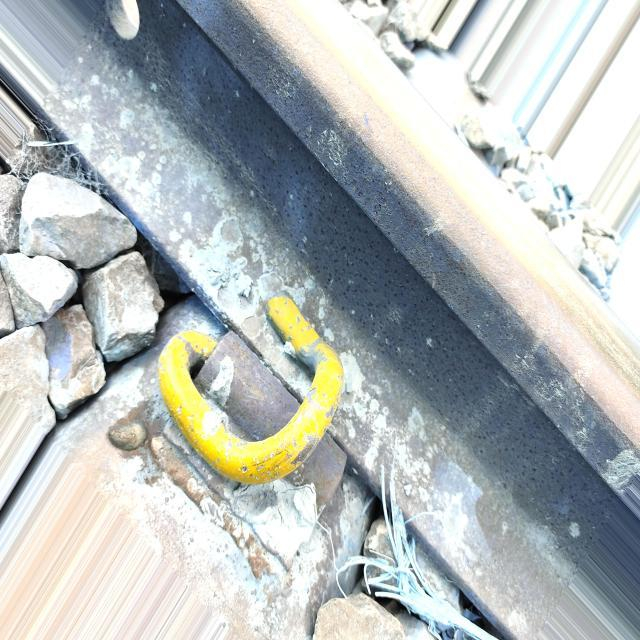Good Fasteners: (109, 296, 346, 564)
